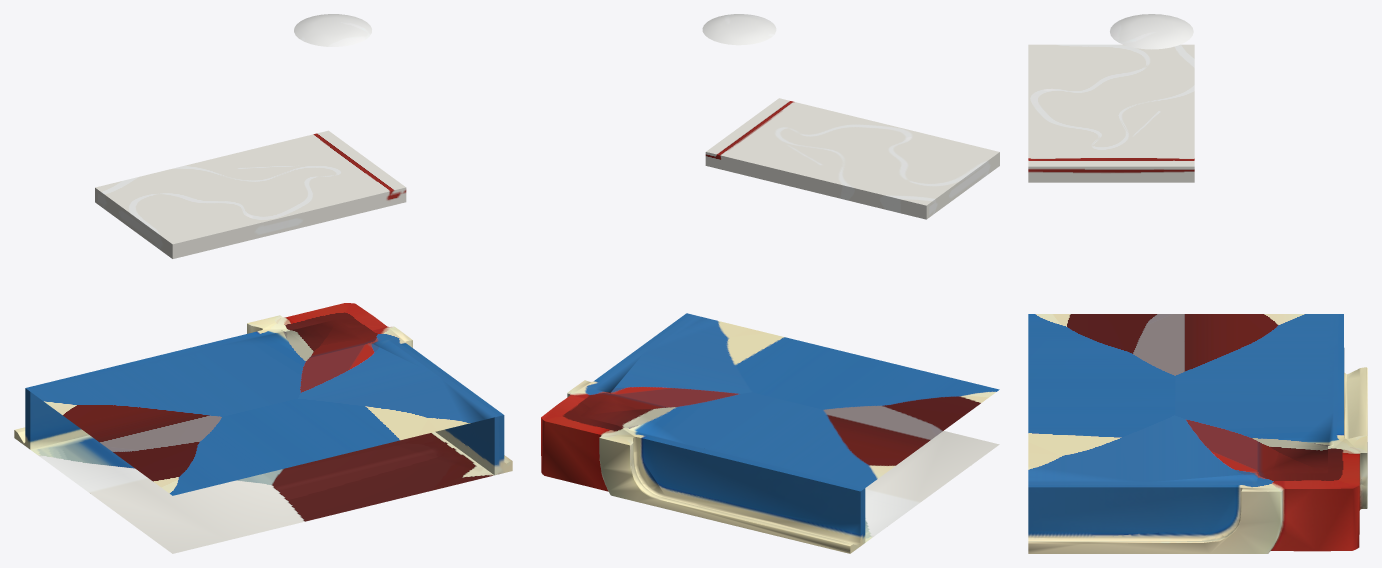
Rendered from 12-roof-back-right.fbx.
3 renders of one model, left to right at view 1: azimuth 30°, elevation 25°; view 2: azimuth 150°, elevation 25°; view 3: azimuth 270°, elevation 25°, orthographic. The views are drawn at different scales.
Visible parts, largest first — view 1: roof-back-right; view 2: roof-back-right; view 3: roof-back-right.
Part boxes in pixels (box(x1,y1,x2,y2)): roof-back-right: box(14, 14, 512, 553); roof-back-right: box(541, 14, 999, 553); roof-back-right: box(1028, 14, 1367, 553).
Bounding box in the file's own units: 4805 × 5840 × 3876.
1 material, 1 textured.
